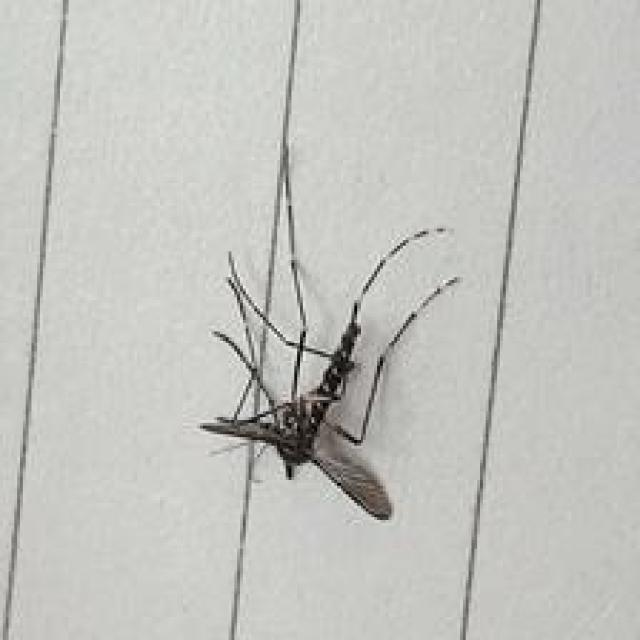Aedes albopictus: (197, 0, 463, 523)
